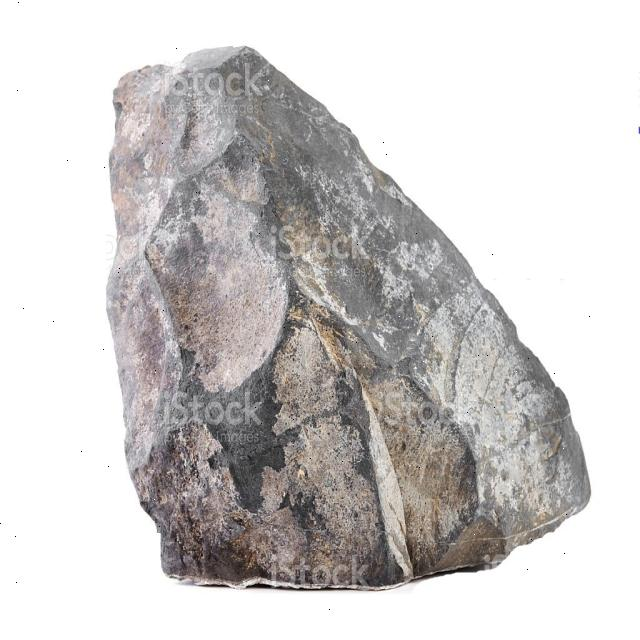Igneous: (102, 34, 594, 599)
